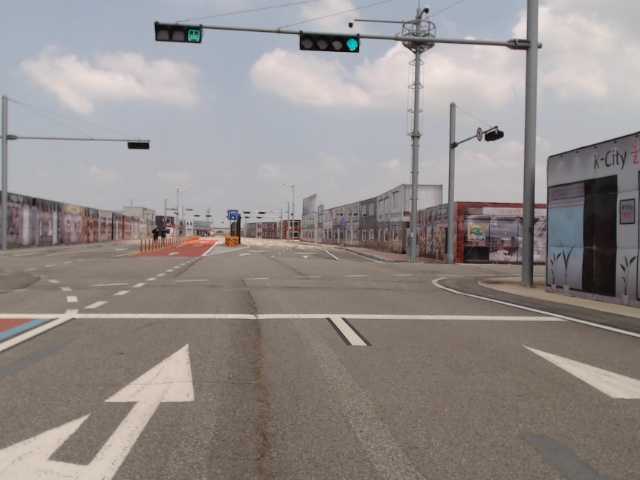straight_green_4: (300, 32, 362, 52)
